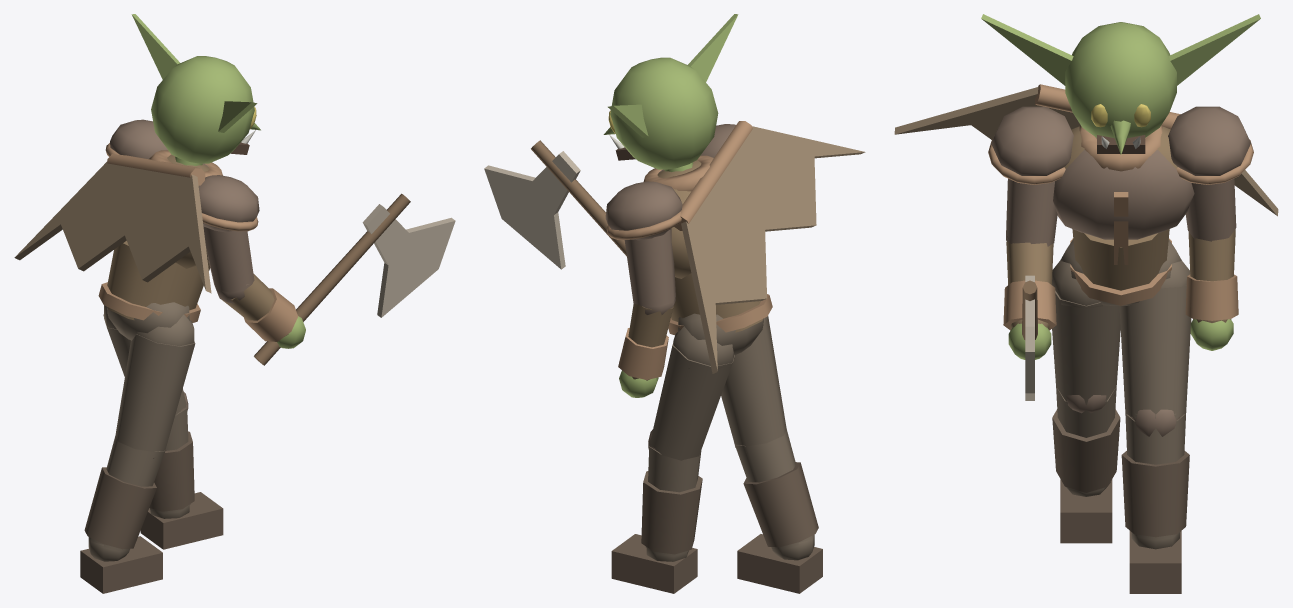
File: enemy_0_goblin.glb
The picture shows the model from 3 angles, left to right: view 1: azimuth 30°, elevation 25°; view 2: azimuth 150°, elevation 25°; view 3: azimuth 270°, elevation 25°; orthographic projection. The views are drawn at different scales.
Visible parts, largest first — view 1: LegR, Cape, Torso, Head, Weapon, LegL, ArmR; view 2: Cape, LegL, LegR, Head, Torso, ArmL, Weapon; view 3: Torso, LegL, LegR, Head, ArmL, ArmR, Cape, Weapon.
Boxes of the visible parts, left/top/right/bottom form: LegR: left=80, top=314, right=195, bottom=593; Cape: left=14, top=154, right=211, bottom=293; Torso: left=98, top=119, right=259, bottom=340; Head: left=131, top=14, right=260, bottom=163; Weapon: left=254, top=193, right=455, bottom=365; LegL: left=103, top=305, right=223, bottom=549; ArmR: left=203, top=226, right=305, bottom=348; Cape: left=674, top=121, right=865, bottom=373; LegL: left=611, top=326, right=734, bottom=593; LegR: left=721, top=316, right=822, bottom=593; Head: left=603, top=14, right=738, bottom=169; Torso: left=605, top=124, right=772, bottom=354; ArmL: left=618, top=228, right=675, bottom=397; Weapon: left=484, top=140, right=626, bottom=269; Torso: left=988, top=106, right=1253, bottom=305; LegL: left=1119, top=261, right=1191, bottom=593; LegR: left=1052, top=261, right=1120, bottom=543; Head: left=981, top=14, right=1260, bottom=154; ArmL: left=1185, top=178, right=1238, bottom=350; ArmR: left=1003, top=178, right=1057, bottom=359; Cape: left=894, top=84, right=1278, bottom=216; Weapon: left=1022, top=275, right=1037, bottom=400.
Size of the model in its own units: 1.88 by 2.57 by 1.59.
